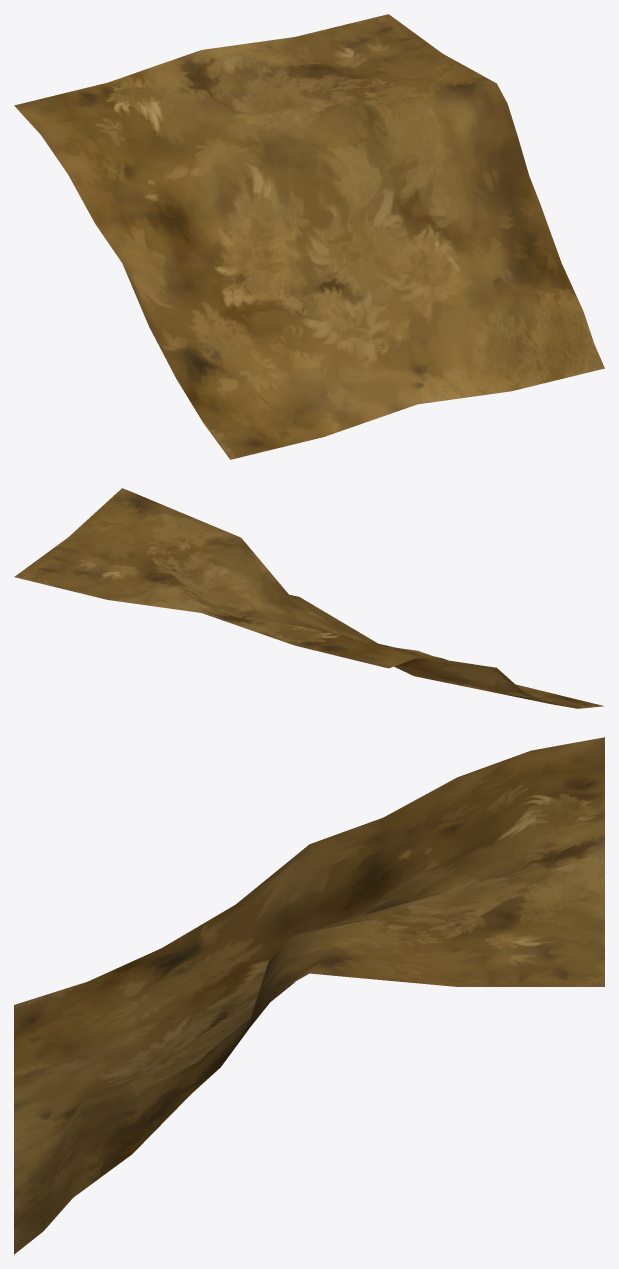
Rendered from Slope_Level_005.fbx.
The picture shows the model from 3 angles, top to bottom: view 1: azimuth 30°, elevation 25°; view 2: azimuth 150°, elevation 25°; view 3: azimuth 270°, elevation 25°; orthographic projection. The views are drawn at different scales.
Parts seen in each view (by area): view 1: Slope_Level_005; view 2: Slope_Level_005; view 3: Slope_Level_005.
Part boxes in pixels (x1,y1,x2,y2): Slope_Level_005: [14, 14, 604, 459]; Slope_Level_005: [14, 488, 604, 708]; Slope_Level_005: [14, 737, 604, 1254].
Bounding box in the file's own units: 10 × 5.25 × 10.
Materials: 1 (1 with a texture image).
